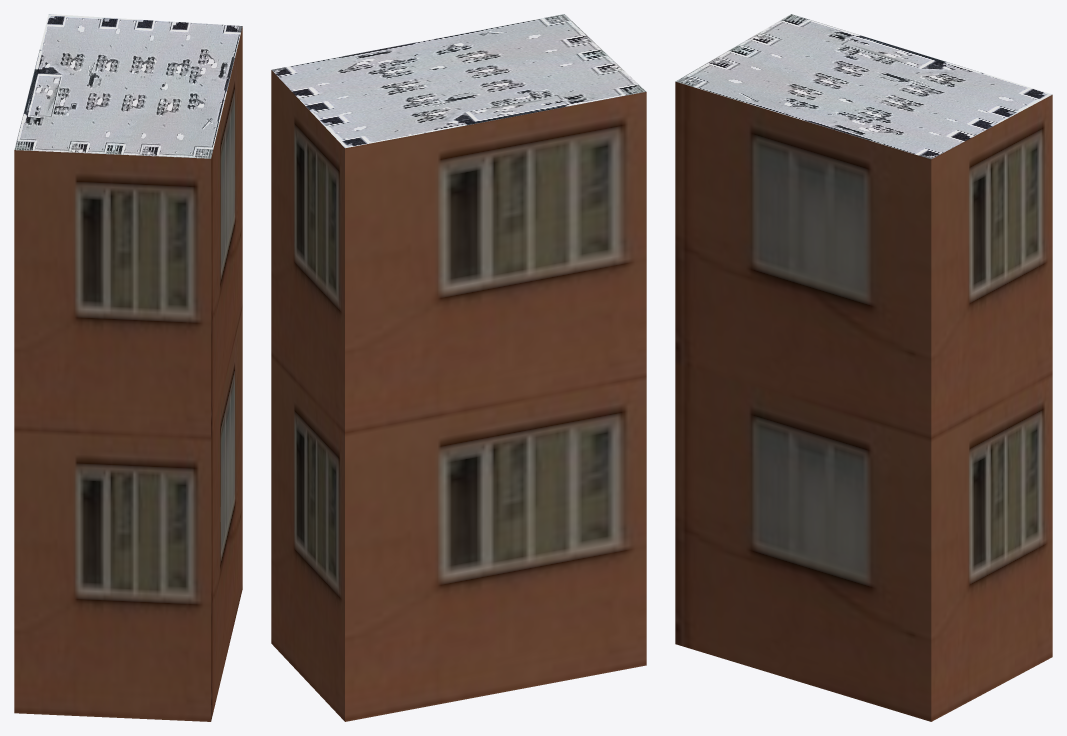
Rendered from ResTex__2332.fbx.
3 renders of one model, left to right at view 1: azimuth 30°, elevation 25°; view 2: azimuth 150°, elevation 25°; view 3: azimuth 270°, elevation 25°, orthographic.
Visible parts, largest first — view 1: CityEngineMaterial_20_m, CityEngineMaterial_4_m; view 2: CityEngineMaterial_20_m, CityEngineMaterial_4_m; view 3: CityEngineMaterial_20_m, CityEngineMaterial_4_m.
Part boxes in pixels (<box>): CityEngineMaterial_20_m: <box>14,27,242,721</box>; CityEngineMaterial_4_m: <box>14,14,242,158</box>; CityEngineMaterial_20_m: <box>271,70,646,721</box>; CityEngineMaterial_4_m: <box>272,14,646,148</box>; CityEngineMaterial_20_m: <box>675,81,1052,721</box>; CityEngineMaterial_4_m: <box>675,14,1052,159</box>.
Bounding box in the file's own units: 3.33 × 6 × 3.65.
Materials: 2 (2 with a texture image).
